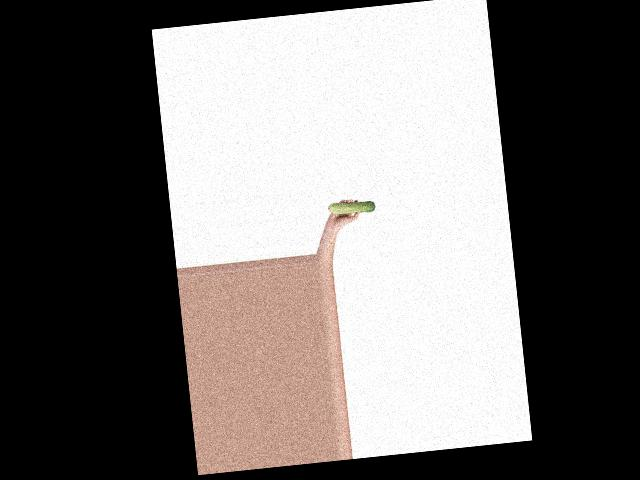cucumber: (326, 199, 376, 217)
